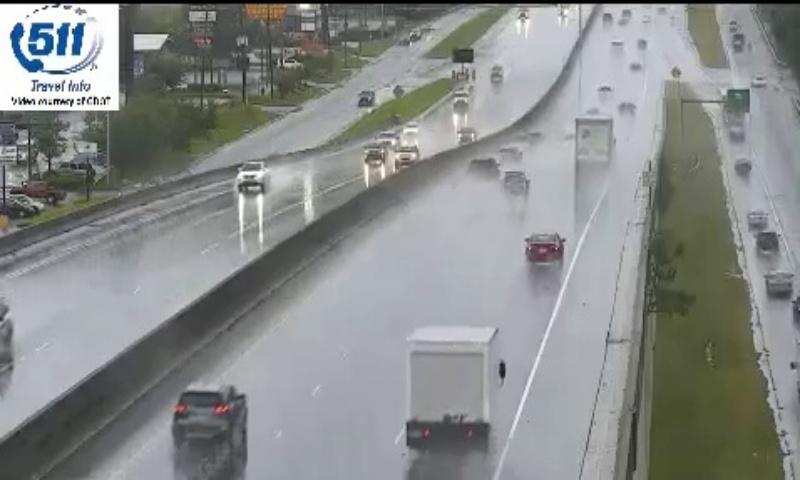car: (172, 384, 246, 443), (525, 232, 562, 262)
small-truck: (406, 325, 497, 453), (574, 116, 614, 165)
